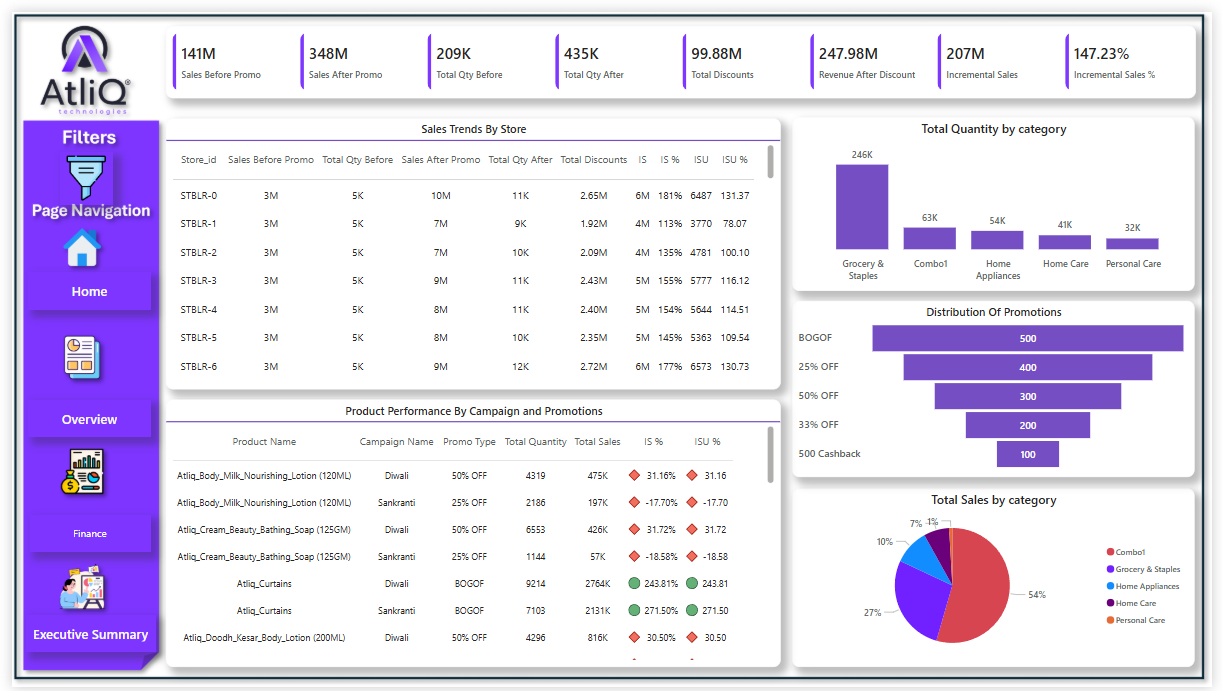

Layout of this report page (visuals, bound fields, positions):
{"tool":"powerbi","page":{"name":"Finance","canvas":[1600,900],"ordinal":2},"visuals":[{"type":"cardVisual","fields":{"Data":["All Measures.Total Sales Before Promo","All Measures.Total Sales After Promo","All Measures.Total Qty Before","All Measures.Total Qty After","All Measures.Total Discounts","All Measures.Net Revenue After Discount","All Measures.IS","All Measures.IS %"]},"box":[205,18.3,1373.3,96.7],"z":0},{"type":"columnChart","fields":{"Category":["dim_products.category"],"Y":["All Measures.Total Quantity"]},"box":[1040,140,536.7,231.7],"z":0,"group":"g1"},{"type":"tableEx","title":"Sales Trends By Store","fields":{"Values":["fact_events.store_id","All Measures.Sales Before Promo","All Measures.Total Qty Before","All Measures.Sales After Promo","All Measures.Total Qty After","All Measures.Total Discounts","All Measures.Incremental Sales","All Measures.Incremental Sales %","All Measures.ISU","All Measures.ISU %"]},"box":[205,141.7,820,361.7],"z":0,"group":"g2"},{"type":"pageNavigator","box":[21.7,346.7,163.3,50],"z":1000},{"type":"tableEx","title":"Product Performance By Campaign and Promotions","fields":{"Values":["dim_products.product_name","dim_campaigns.campaign_name","fact_events.promo_type","All Measures.Total Quantity","All Measures.Total Sales","All Measures.IS %","All Measures.ISU %"]},"box":[205,516.7,820,356.7],"z":1000,"group":"g2"},{"type":"pieChart","fields":{"Category":["dim_products.category"],"Y":["All Measures.Total Sales"]},"box":[1040,635,536.7,238.3],"z":1000,"group":"g1"},{"type":"funnel","title":"Distribution Of Promotions","fields":{"Category":["fact_events.promo_type"],"Y":["CountNonNull(fact_events.promo_type)"]},"box":[1040,385,536.7,235],"z":2000,"group":"g1"},{"type":"pageNavigator","box":[21.7,516.7,163.3,50],"z":2000},{"type":"pageNavigator","box":[23.3,670,161.7,50],"z":3000},{"type":"image","title":"Filter Button","box":[63.3,186.7,71.7,70],"z":5000},{"type":"pageNavigator","box":[18.3,803.3,173.3,50],"z":6000},{"type":"group","id":"g1","title":"Group 3","box":[1040,140,536.7,733.3],"z":7000},{"type":"group","id":"g2","title":"Group 4","box":[205,141.7,820,731.7],"z":8000}]}

Visuals, with their boxes in screenshot pixels (x1, y1, x2, y2), scaled from the page's 1600x900 canvas onto the 1222x691 screenshot:
cardVisual - All Measures.Total Sales Before Promo x All Measures.Total Sales After Promo: 157/14/1205/88
columnChart - dim_products.category x All Measures.Total Quantity: 794/107/1204/285
"Sales Trends By Store" tableEx: 157/109/783/386
pageNavigator: 17/266/141/305
"Product Performance By Campaign and Promotions" tableEx: 157/397/783/671
pieChart - dim_products.category x All Measures.Total Sales: 794/488/1204/671
"Distribution Of Promotions" funnel: 794/296/1204/476
pageNavigator: 17/397/141/435
pageNavigator: 18/514/141/553
"Filter Button" image: 48/143/103/197
pageNavigator: 14/617/146/655
"Group 3" group: 794/107/1204/671
"Group 4" group: 157/109/783/671
